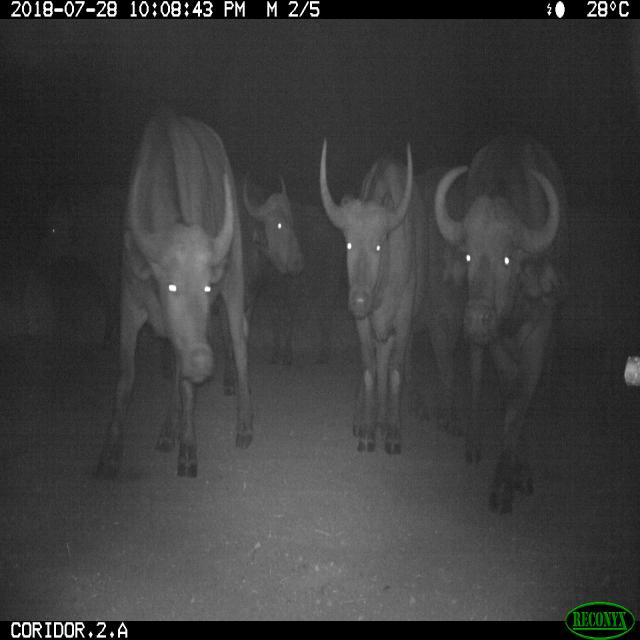buffalo: (94, 132, 546, 464)
